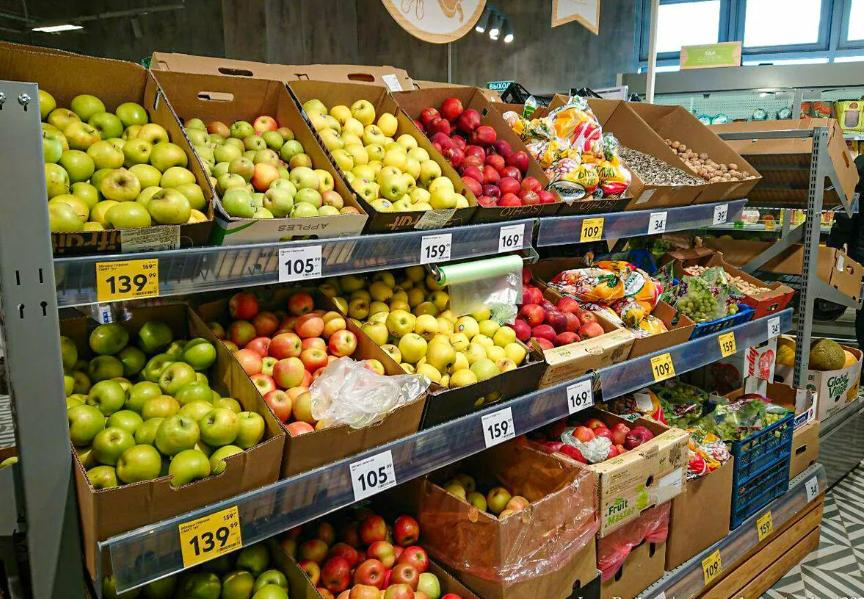grapes: (672, 278, 740, 319), (658, 384, 707, 428)
green apple: (51, 311, 261, 489), (38, 87, 205, 232), (324, 270, 526, 387), (182, 116, 362, 220), (314, 103, 458, 219), (442, 472, 532, 522)
red apple: (232, 294, 356, 436), (280, 519, 488, 599), (422, 97, 561, 210), (514, 288, 606, 351), (551, 420, 655, 466)
